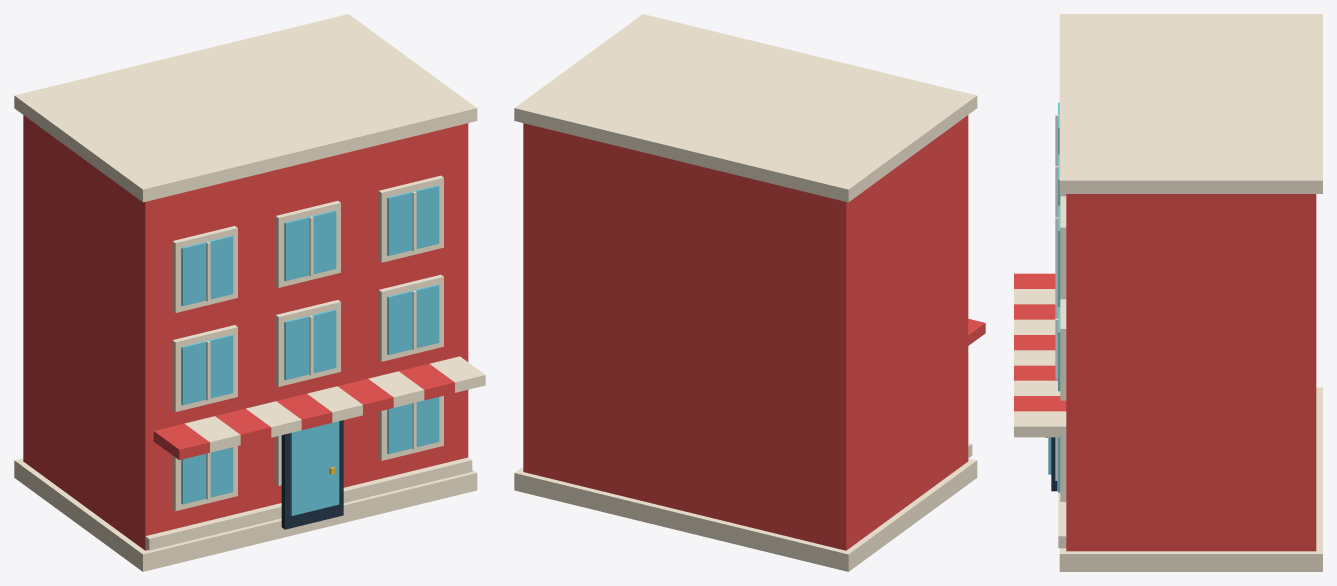
File: 04_shop_red.obj
3 views of the same model, side by side, from view 1: azimuth 30°, elevation 25°; view 2: azimuth 150°, elevation 25°; view 3: azimuth 270°, elevation 25° (orthographic). The views are drawn at different scales.
Parts seen in each view (by area): view 1: part_1, part_2, part_0, part_3, part_42, part_23, part_14, part_20, part_26, part_29, part_17, part_11 (+20 smaller); view 2: part_1, part_2, part_0; view 3: part_1, part_2, part_0, part_40, part_39, part_28, part_38, part_19, part_37, part_33, part_36, part_31 (+5 smaller).
Part boxes in pixels (bbox=[...]): part_1: bbox=[23, 115, 468, 550]; part_2: bbox=[14, 14, 477, 202]; part_0: bbox=[14, 458, 477, 571]; part_3: bbox=[145, 457, 472, 550]; part_42: bbox=[290, 421, 339, 515]; part_23: bbox=[181, 235, 233, 306]; part_14: bbox=[181, 334, 233, 405]; part_20: bbox=[387, 284, 439, 354]; part_26: bbox=[284, 210, 336, 281]; part_29: bbox=[387, 185, 439, 255]; part_17: bbox=[284, 309, 336, 380]; part_11: bbox=[387, 397, 439, 454]; part_1: bbox=[523, 115, 968, 550]; part_2: bbox=[514, 14, 977, 202]; part_0: bbox=[514, 458, 977, 571]; part_1: bbox=[1066, 194, 1316, 551]; part_2: bbox=[1059, 14, 1322, 193]; part_0: bbox=[1059, 387, 1322, 571]; part_40: bbox=[1014, 411, 1066, 437]; part_39: bbox=[1014, 396, 1066, 411]; part_28: bbox=[1060, 196, 1066, 299]; part_38: bbox=[1014, 380, 1060, 395]; part_19: bbox=[1060, 299, 1066, 400]; part_37: bbox=[1014, 365, 1057, 380]; part_33: bbox=[1014, 304, 1055, 319]; part_36: bbox=[1014, 350, 1055, 365]; part_31: bbox=[1014, 273, 1055, 288].
Size of the model in its own units: 6 by 6.56 by 4.7.
